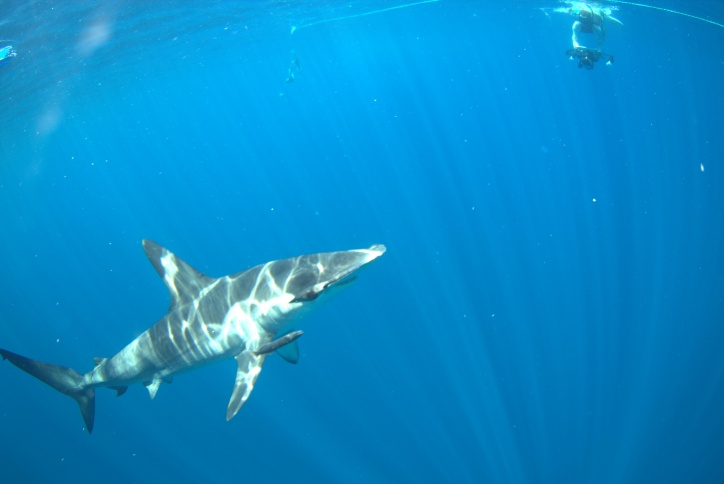Hammer: (1, 205, 415, 466)
